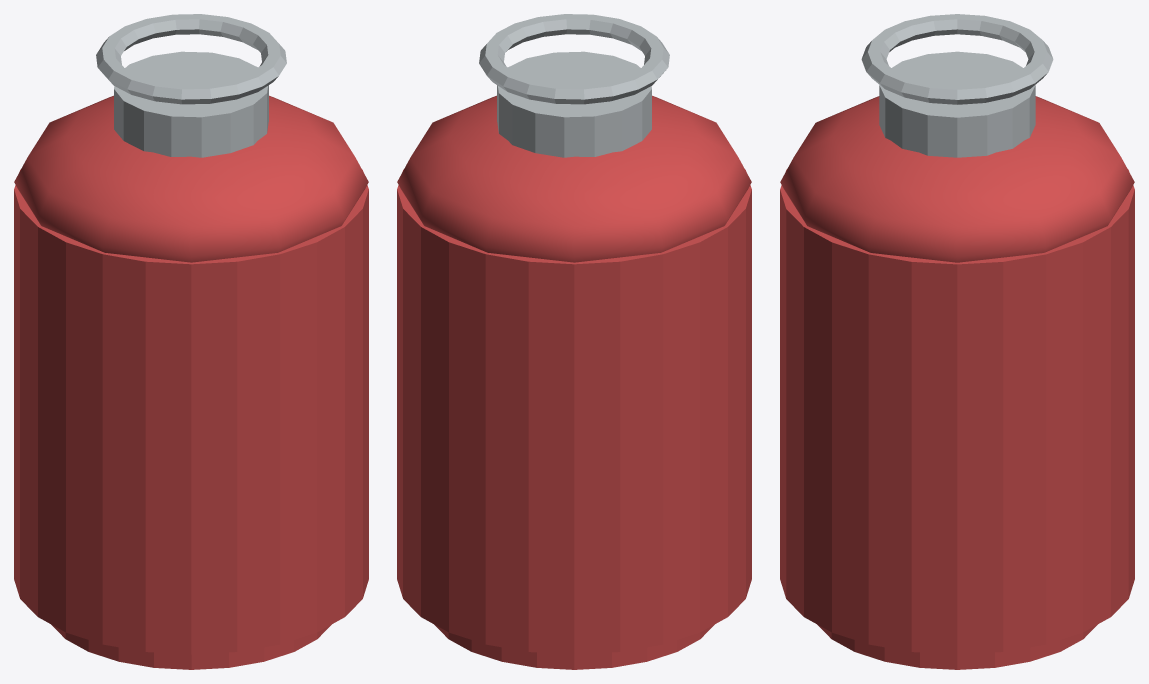
The model's file is gas_cylinder_6kg_red.glb.
3 renders of one model, left to right at view 1: azimuth 30°, elevation 25°; view 2: azimuth 150°, elevation 25°; view 3: azimuth 270°, elevation 25°, orthographic.
Parts seen in each view (by area): view 1: gas bottle, cylinder shoulder, cylinder neck, guard hoop, foot ring; view 2: gas bottle, cylinder shoulder, cylinder neck, guard hoop, foot ring; view 3: gas bottle, cylinder shoulder, cylinder neck, guard hoop, foot ring.
Part boxes in pixels (x1,y1,x2,y2): gas bottle: (14, 169, 368, 654); cylinder shoulder: (14, 95, 368, 262); cylinder neck: (114, 51, 268, 157); guard hoop: (96, 14, 286, 104); foot ring: (51, 624, 331, 669); gas bottle: (397, 169, 751, 654); cylinder shoulder: (397, 95, 751, 262); cylinder neck: (497, 51, 651, 157); guard hoop: (479, 14, 669, 104); foot ring: (434, 624, 714, 669); gas bottle: (780, 169, 1134, 654); cylinder shoulder: (780, 96, 1134, 262); cylinder neck: (879, 51, 1035, 157); guard hoop: (861, 14, 1053, 104); foot ring: (817, 624, 1097, 669).
Size of the model in its own units: 0.26 by 0.4502 by 0.26.
